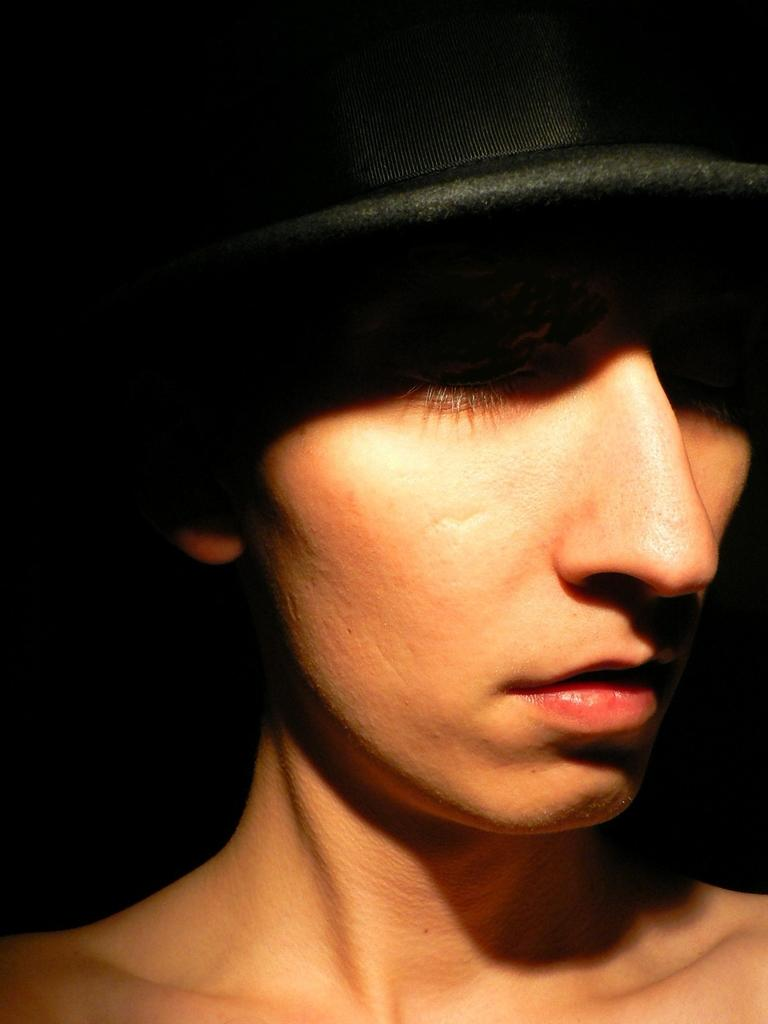Hat: (210, 0, 767, 258)
